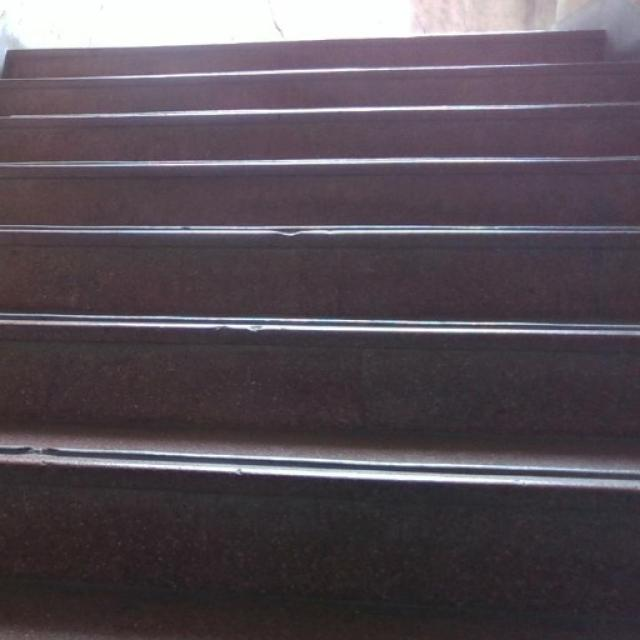Stairs: (0, 25, 639, 639)
